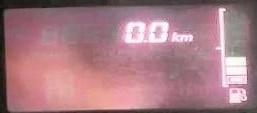-: (142, 39, 146, 42)
0: (147, 20, 167, 41), (124, 21, 144, 42)
X: (178, 34, 191, 40), (170, 31, 178, 40)
